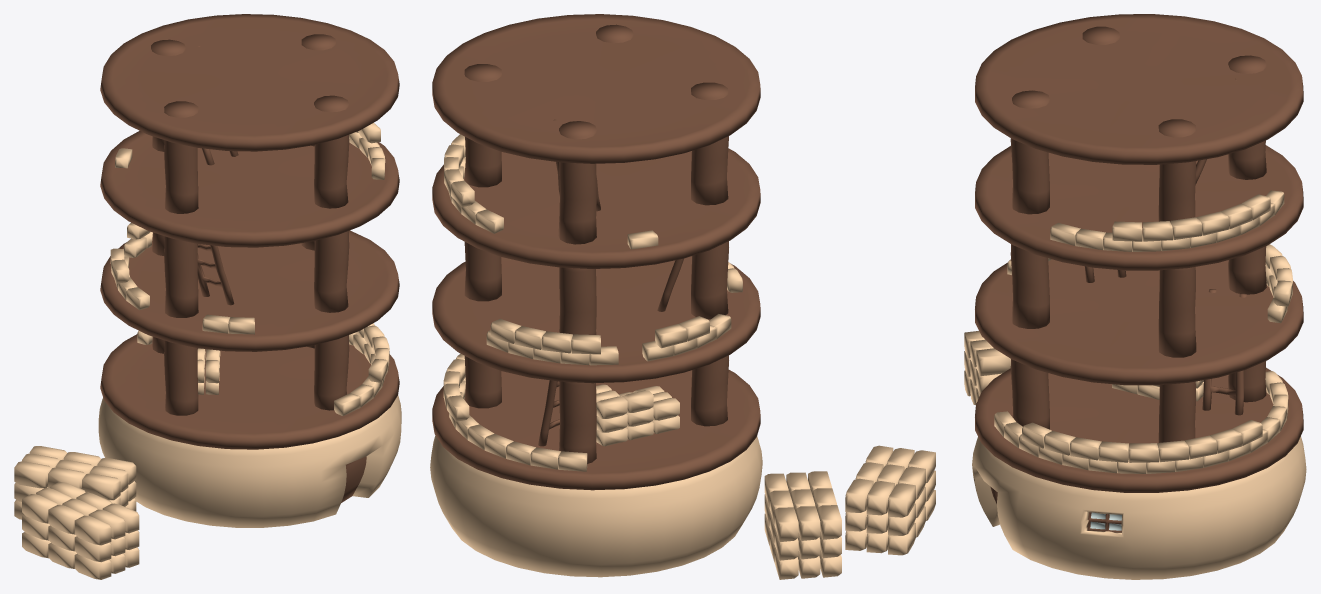
The model's file is predio100%.fbx.
3 renders of one model, left to right at view 1: azimuth 30°, elevation 25°; view 2: azimuth 150°, elevation 25°; view 3: azimuth 270°, elevation 25°, orthographic. The views are drawn at different scales.
Parts seen in each view (by area): view 1: Circle.004; view 2: Circle.004; view 3: Circle.004.
Boxes of the visible parts, <box> form: Circle.004: <box>14,14,401,579</box>; Circle.004: <box>430,14,935,579</box>; Circle.004: <box>964,14,1306,579</box>.
Bounding box in the file's own units: 162 × 159 × 113.
